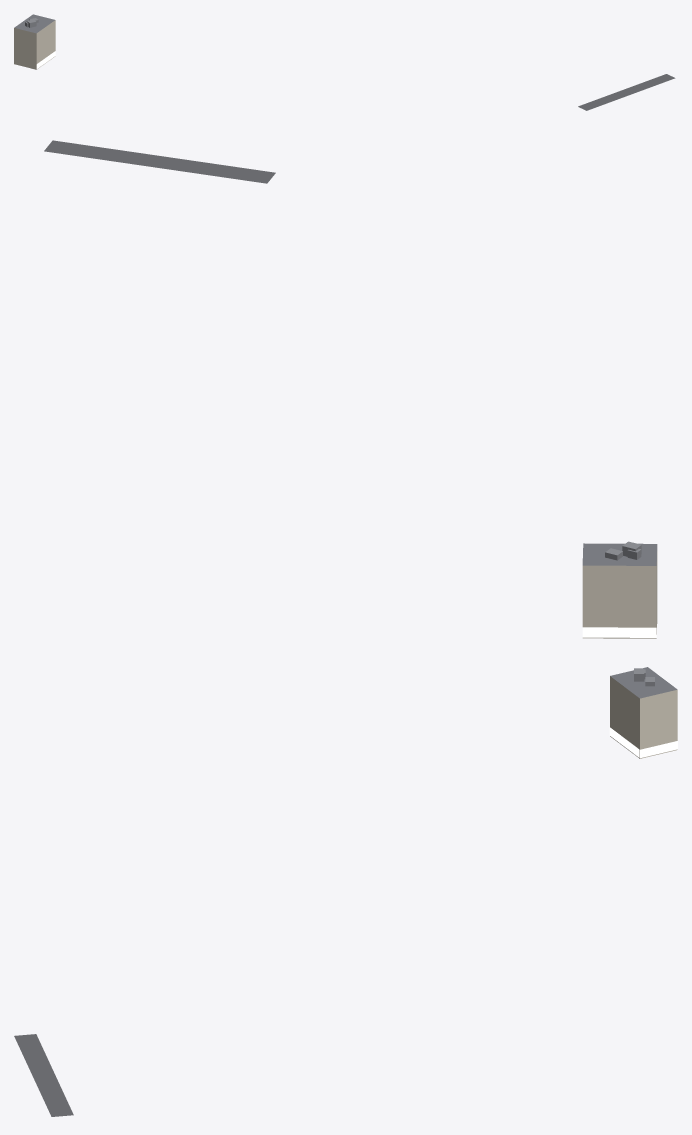
3 views of the same model, one above another, from view 1: azimuth 30°, elevation 25°; view 2: azimuth 150°, elevation 25°; view 3: azimuth 270°, elevation 25° (orthographic). The views are drawn at different scales.
Bounding box in the file's own units: 327 × 26.47 × 233.
